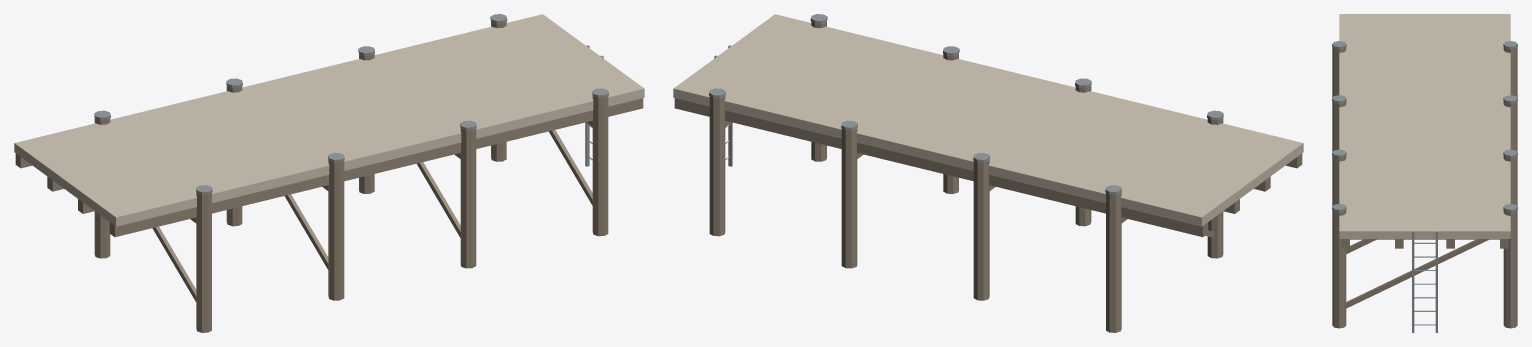
File: isl_dock.fbx
The picture shows the model from 3 angles, left to right: view 1: azimuth 30°, elevation 25°; view 2: azimuth 150°, elevation 25°; view 3: azimuth 270°, elevation 25°; orthographic projection. The views are drawn at different scales.
Parts seen in each view (by area): view 1: isl_dock; view 2: isl_dock; view 3: isl_dock.
Boxes of the visible parts, left/top/right/bottom form: isl_dock: left=14, top=14, right=644, bottom=332; isl_dock: left=673, top=14, right=1303, bottom=332; isl_dock: left=1332, top=14, right=1517, bottom=332.
Size of the model in its own units: 12.05 by 3.06 by 4.34.
